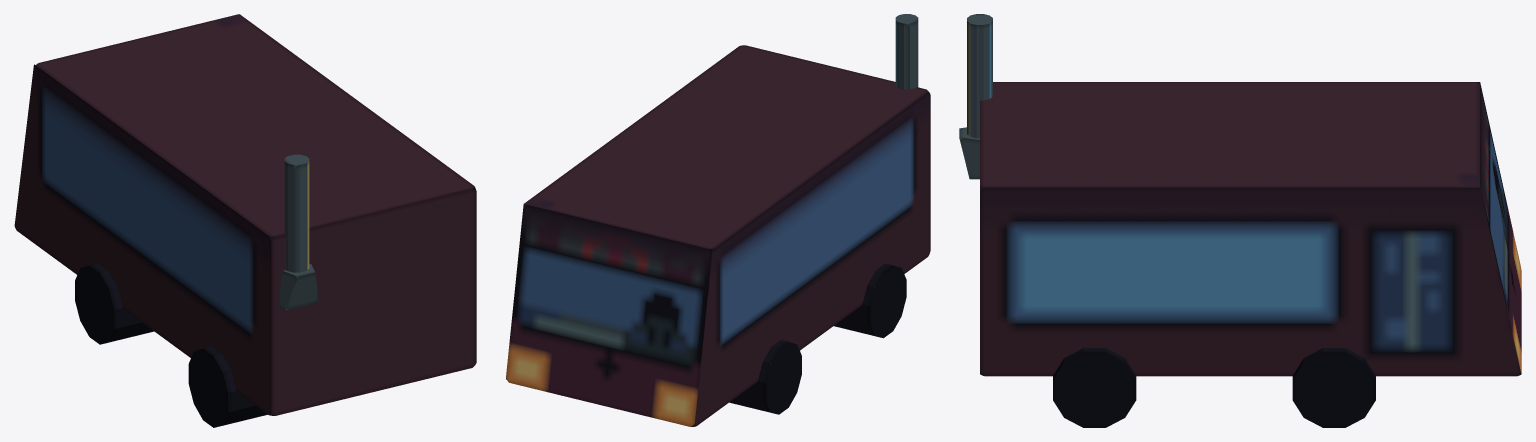
The model's file is Busobj.obj.
The picture shows the model from 3 angles, left to right: view 1: azimuth 30°, elevation 25°; view 2: azimuth 150°, elevation 25°; view 3: azimuth 270°, elevation 25°; orthographic projection. The views are drawn at different scales.
Visible parts, largest first — view 1: cylinder; view 2: cylinder; view 3: cylinder.
Boxes of the visible parts, x1,y1,x2,y2 form: cylinder: [14, 14, 476, 427]; cylinder: [506, 14, 930, 426]; cylinder: [959, 14, 1521, 427].
Size of the model in its own units: 1.62 by 2.06 by 3.38.
